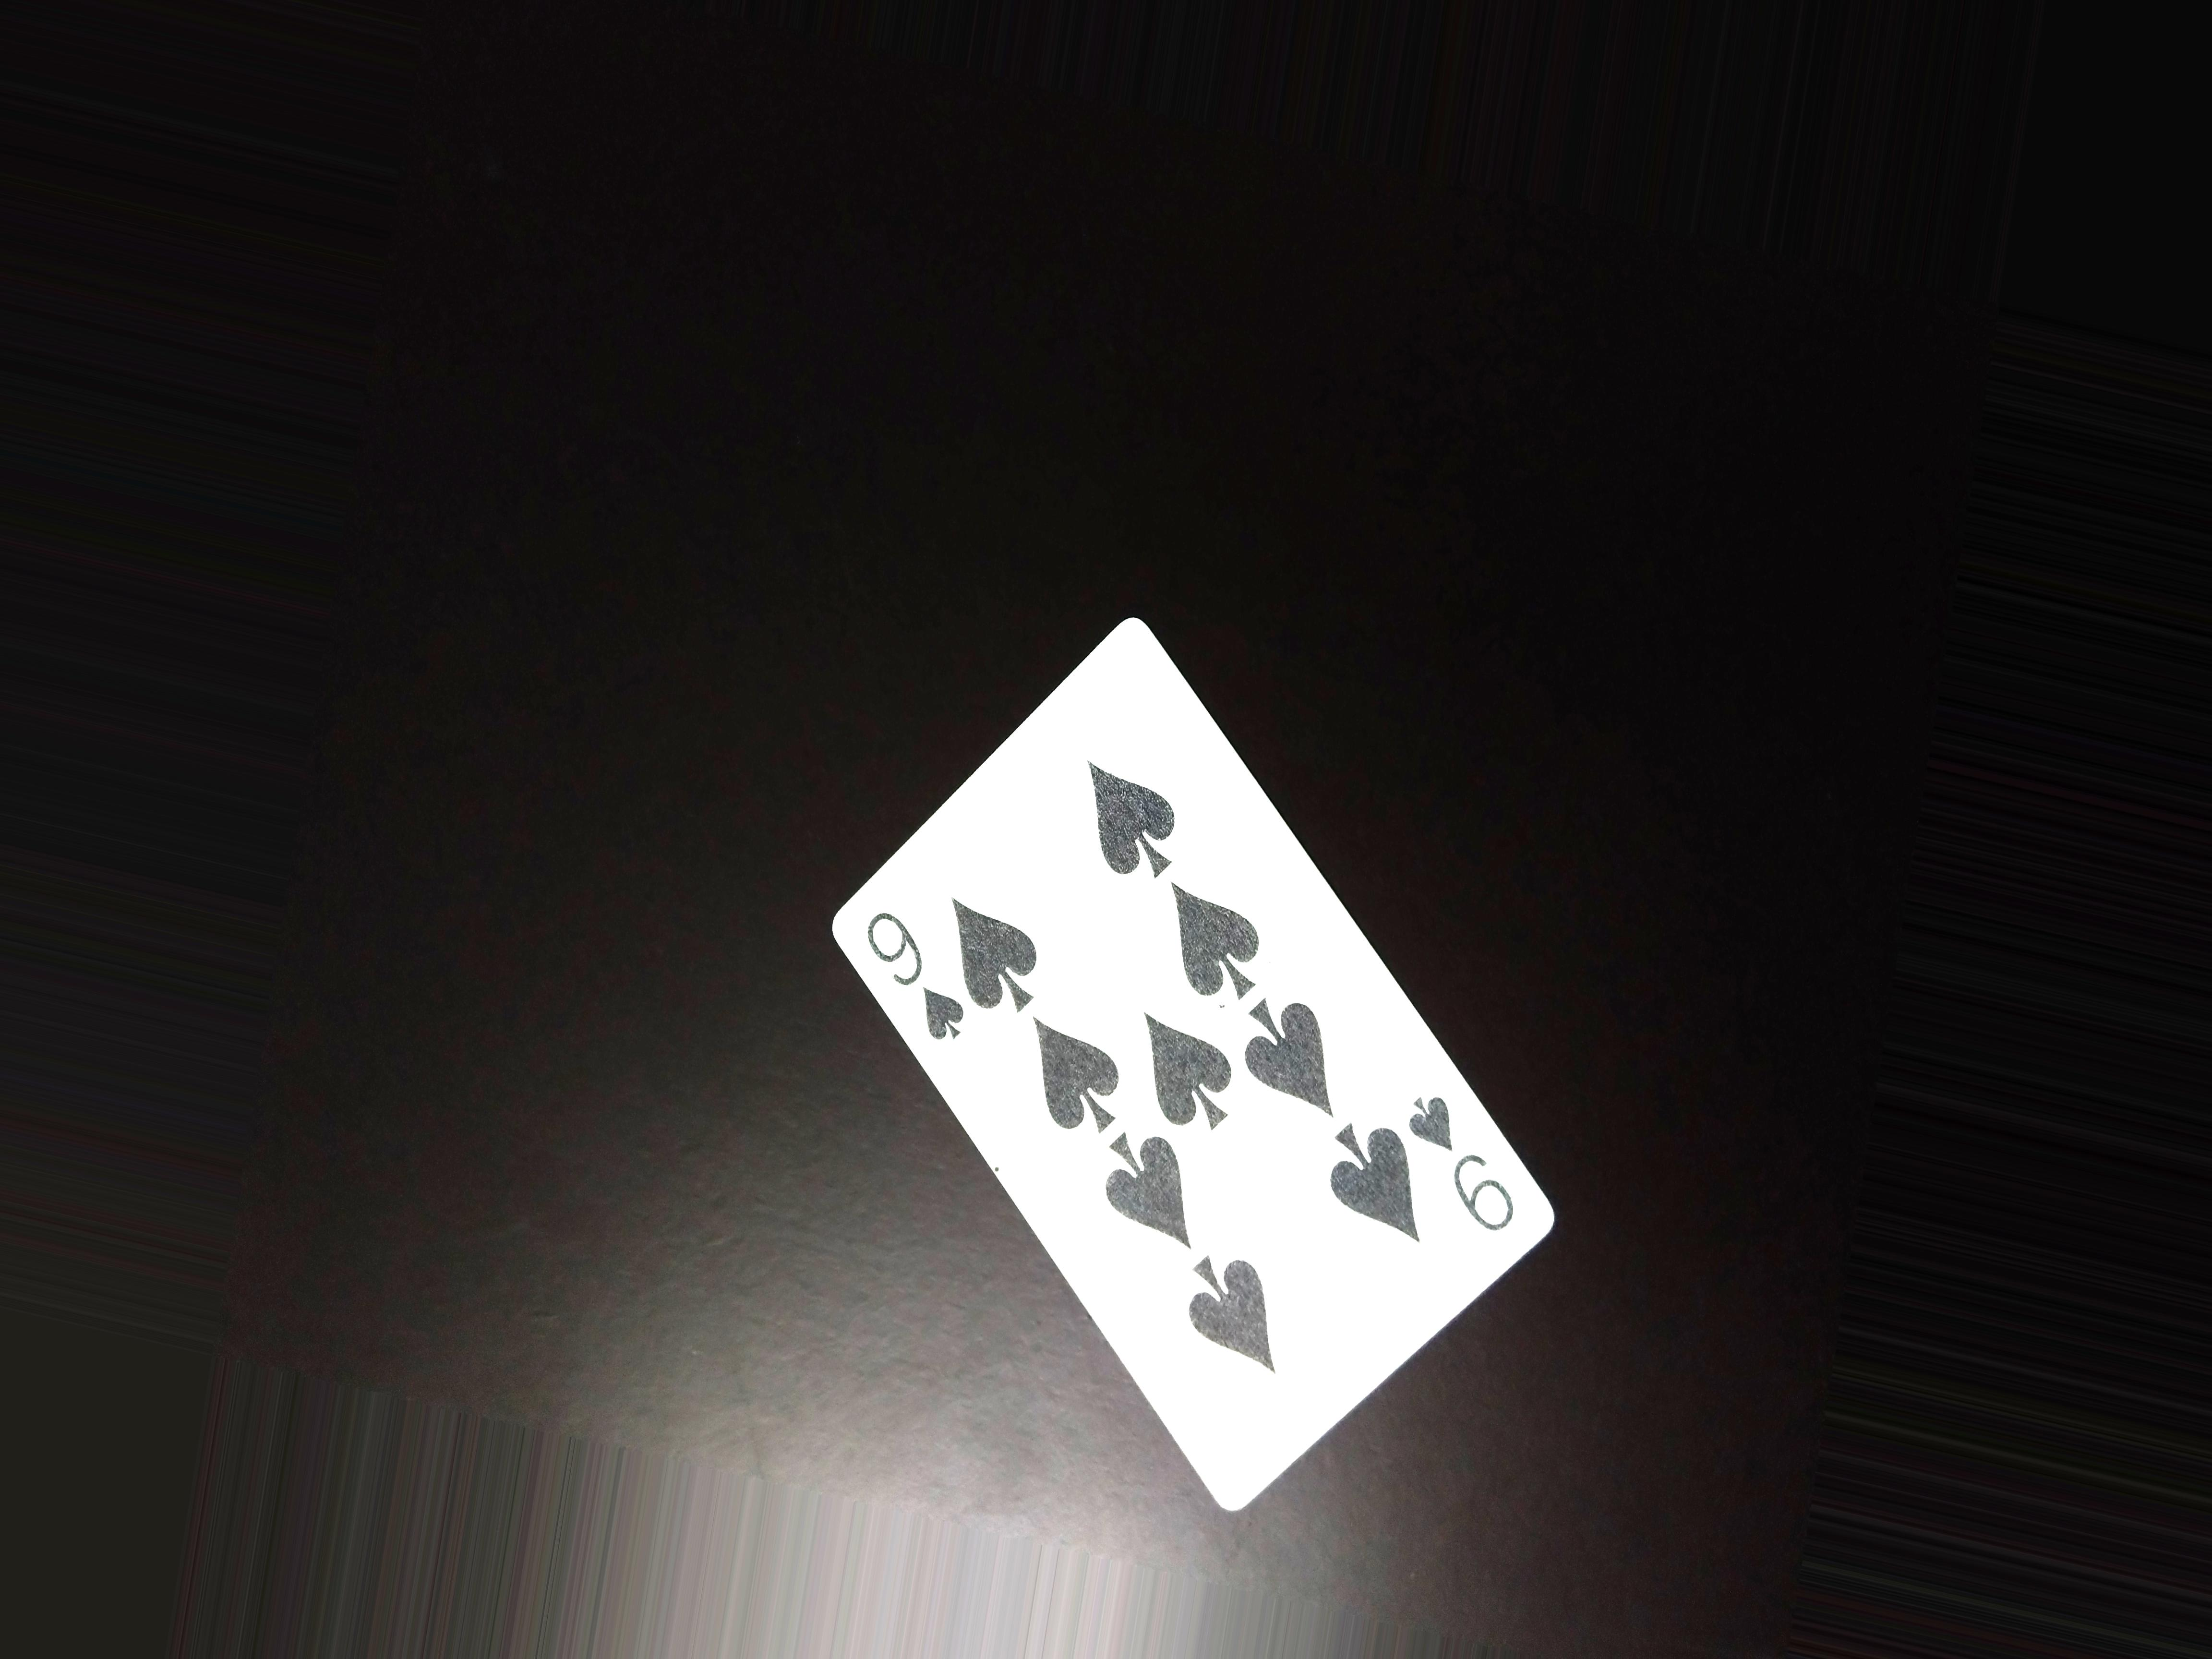9S: (841, 899, 1003, 1049)
